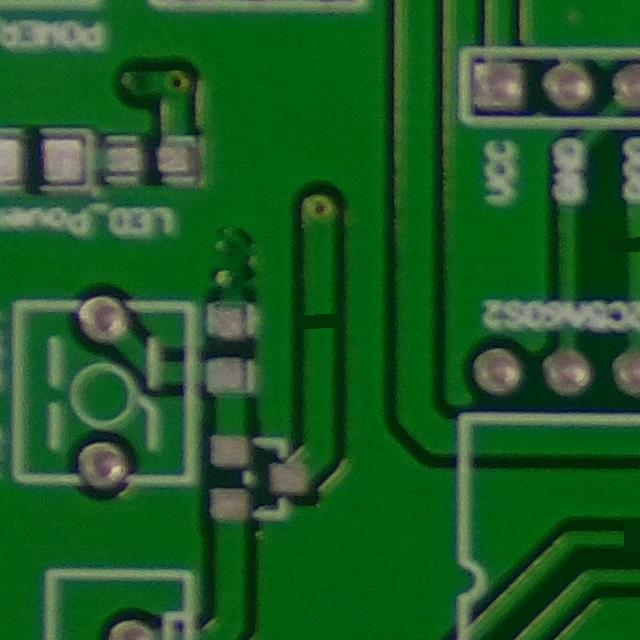open_circuit: (297, 300, 343, 340)
